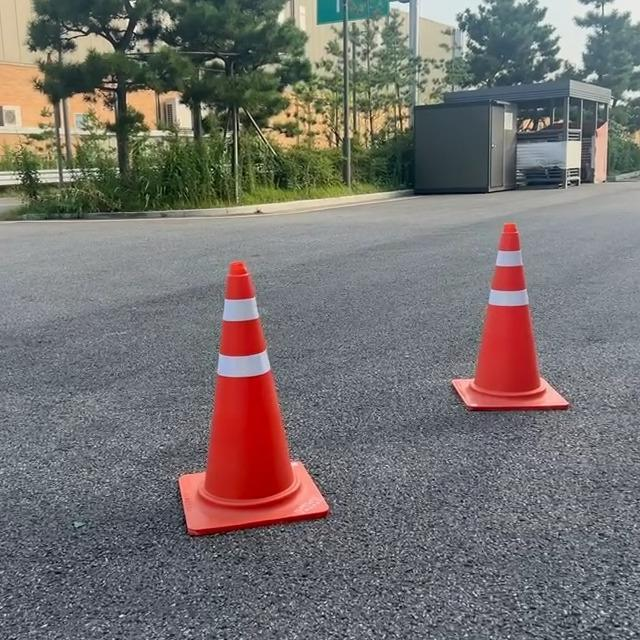fallen_object: (156, 227, 329, 560), (410, 206, 571, 429)
